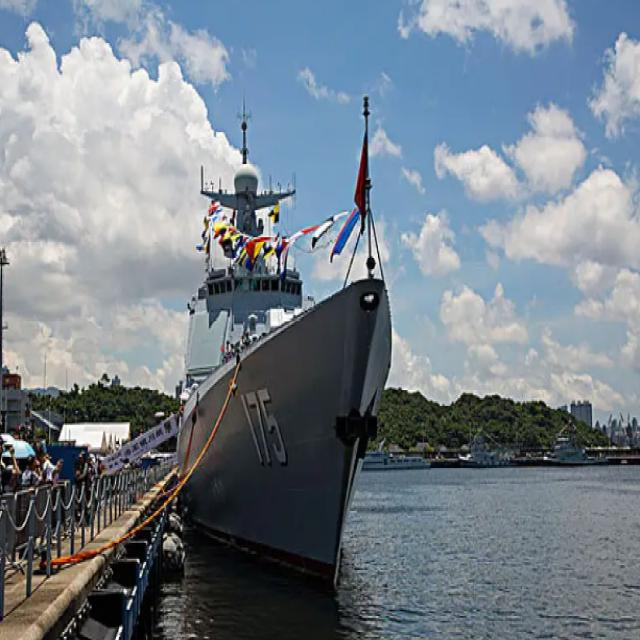navalvessels: (156, 118, 409, 594)
